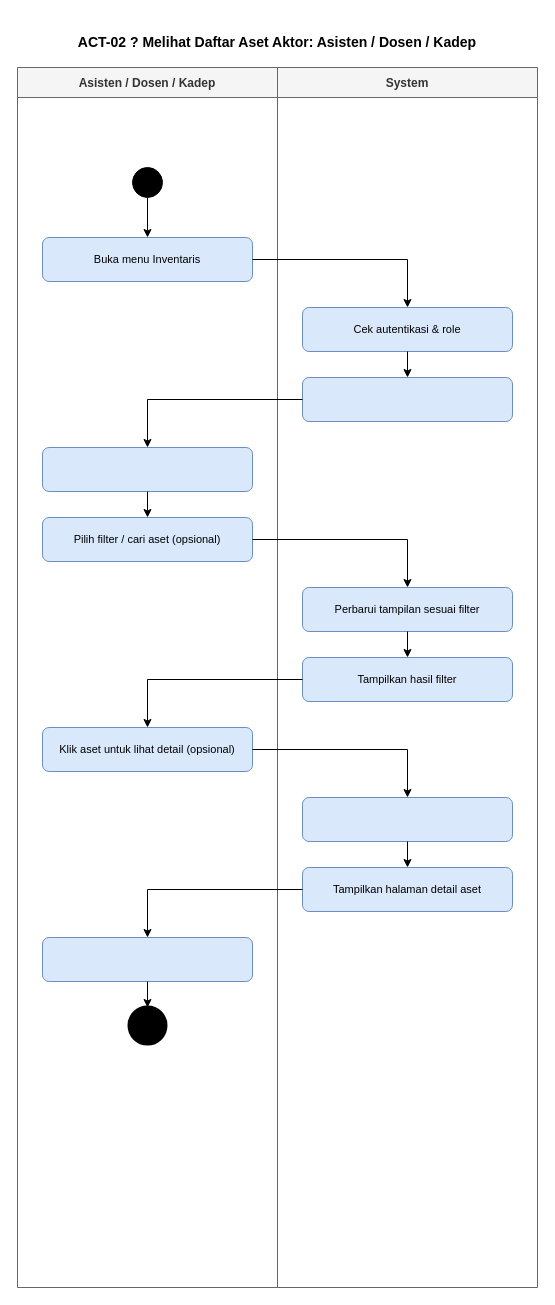
This 555x1305 diagram has some shape labels left out. The shapes that lost their labels are listed below. From the top down, each one's centre as x and y in pixels, then its label:
At pixel 407 399: "Tampilkan daftar aset".
At pixel 147 469: "Lihat daftar aset".
At pixel 407 819: "Ambil data detail aset".
At pixel 147 959: "Lihat detail aset".
